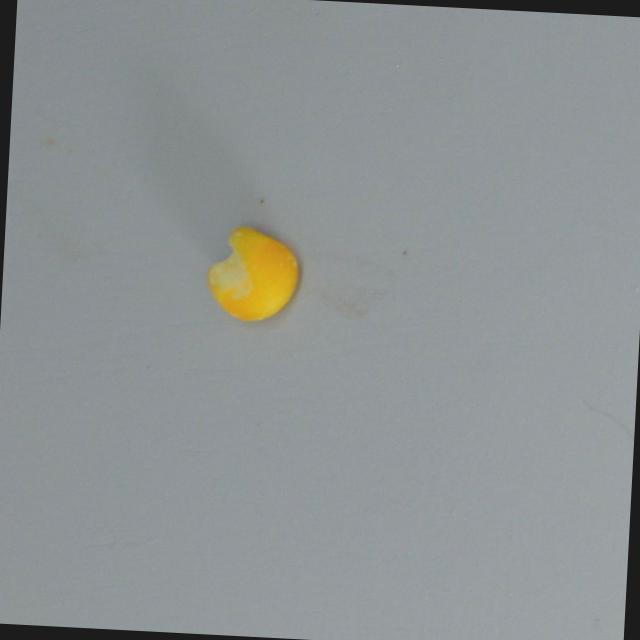no_canjicado: (205, 225, 302, 324)
